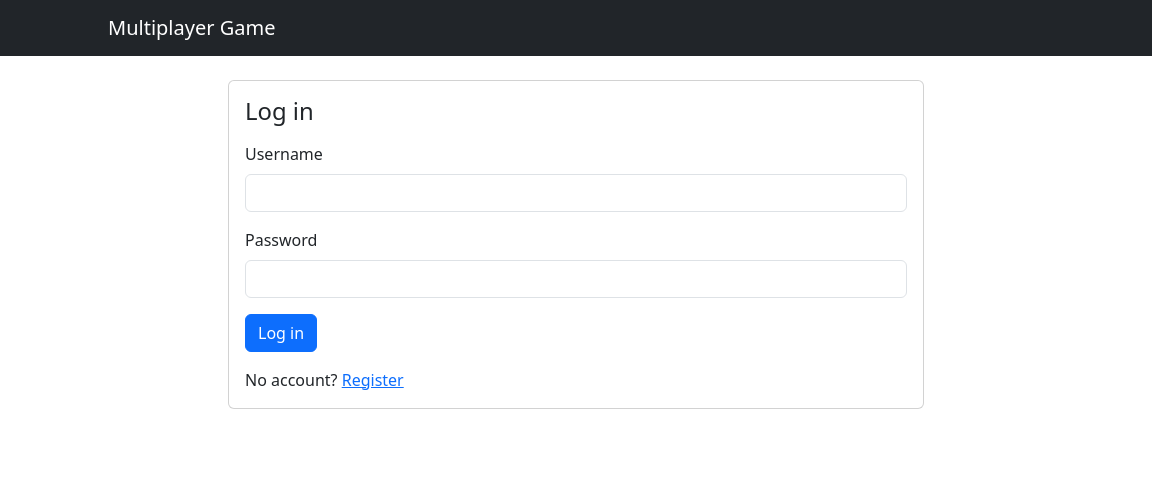
Test case: wrong credentials show a message, keep the form, and allow another try
Type "alice" into the field labelled "Username".
click(576, 193); type("alice")  # box [245,174,907,212]
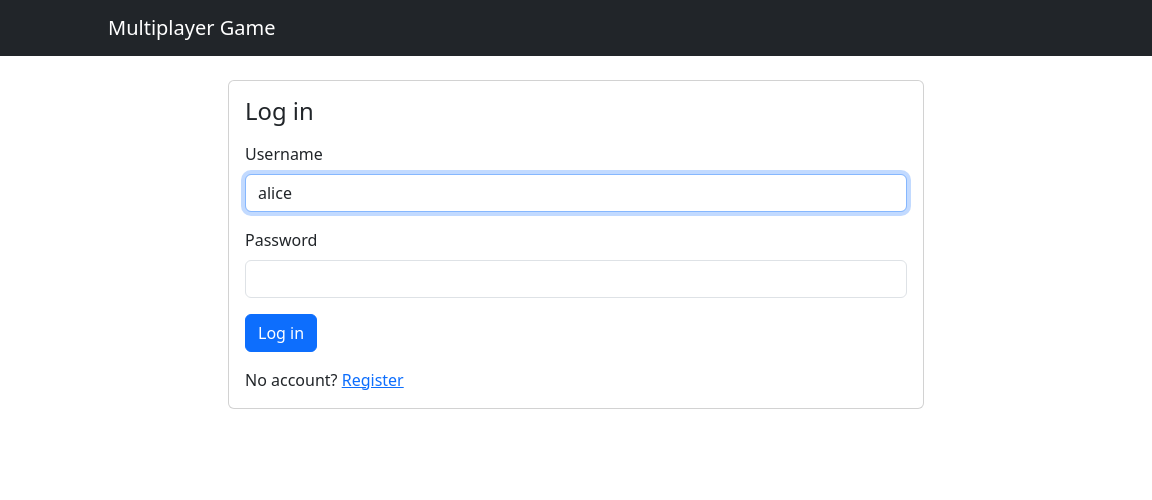
Type "wrong-password" into the password field labelled "Password".
click(576, 279); type("wrong-password")  # box [245,260,907,298]
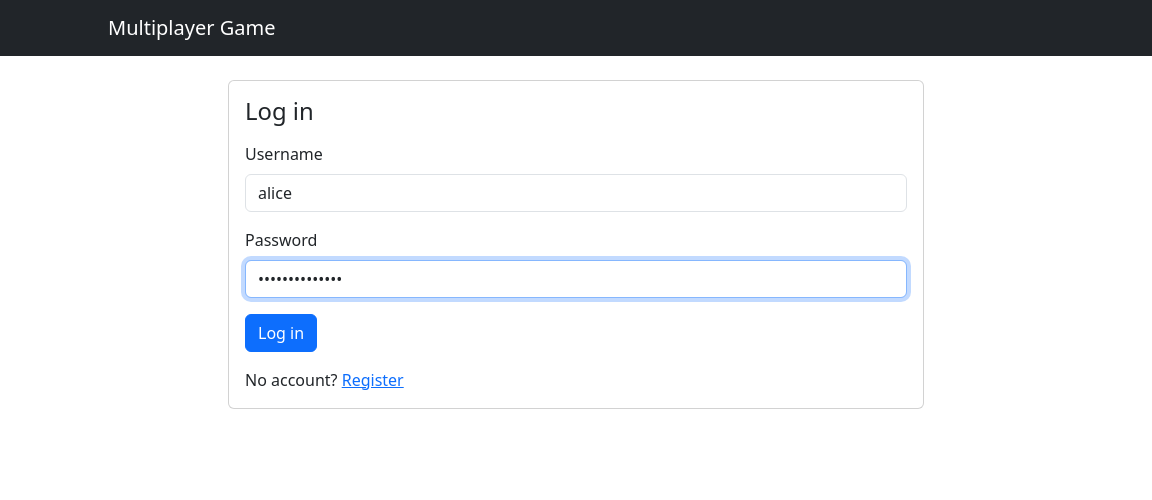
Click the button "Log in".
click(281, 333)  # box [245,314,317,352]
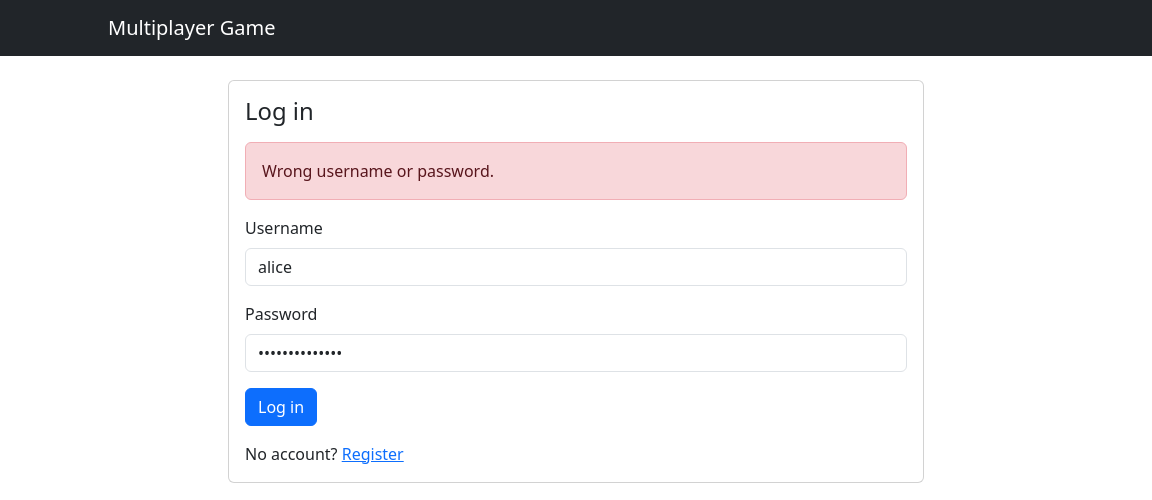
Expected: the heading "Log in" is shown, [245,95,314,127]
Expected: the message reads "Wrong username or password.", [262,160,494,182]
